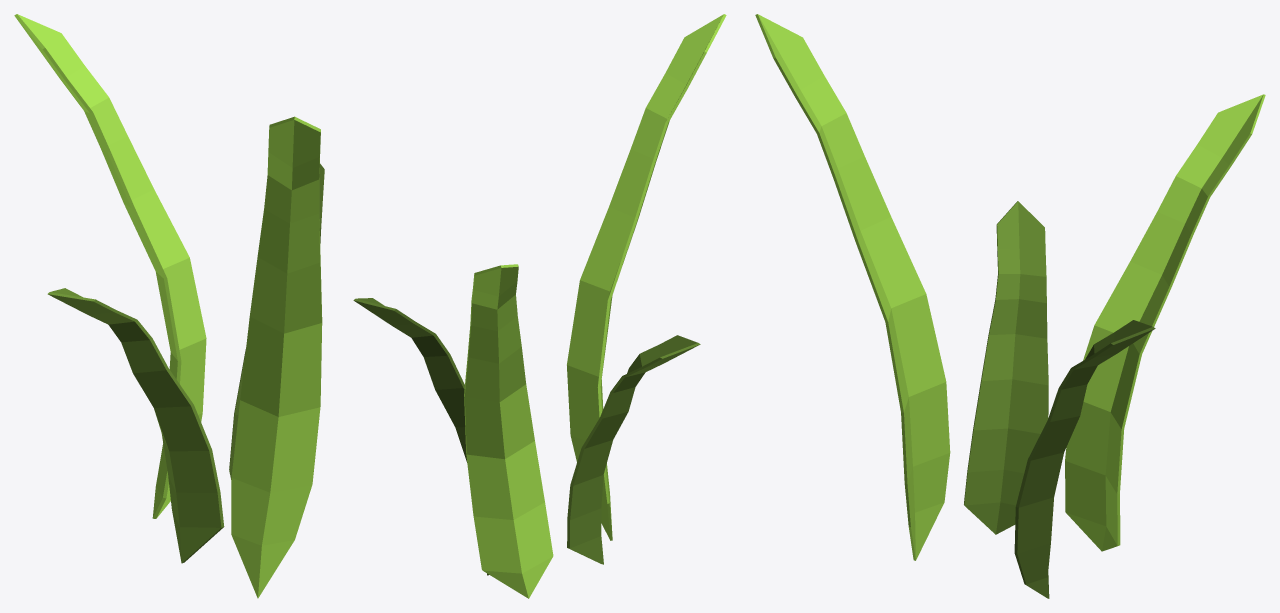
Rendered from little grass.fbx.
3 renders of one model, left to right at view 1: azimuth 30°, elevation 25°; view 2: azimuth 150°, elevation 25°; view 3: azimuth 270°, elevation 25°, orthographic. The views are drawn at different scales.
Visible parts, largest first — view 1: little grass; view 2: little grass; view 3: little grass.
Part boxes in pixels (<box>): little grass: <box>14,14,324,598</box>; little grass: <box>353,14,726,598</box>; little grass: <box>755,14,1265,598</box>.
Size of the model in its own units: 143 by 164 by 101.
